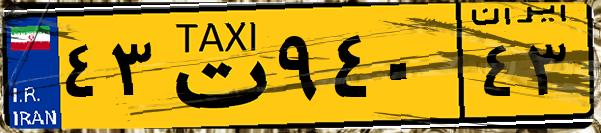0: (385, 28, 445, 110)
3: (525, 38, 570, 115), (110, 28, 158, 98)
4: (330, 28, 385, 110), (57, 26, 110, 100), (475, 38, 525, 113)
9: (270, 28, 330, 110)
ت: (158, 12, 270, 120)
